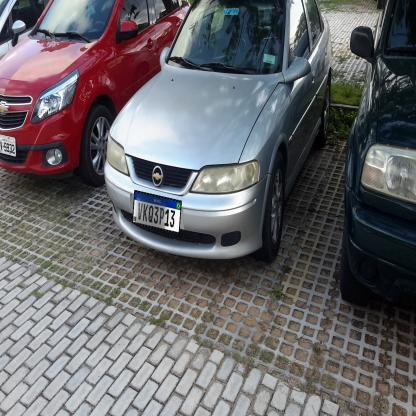PlacaM: (132, 190, 182, 234)
